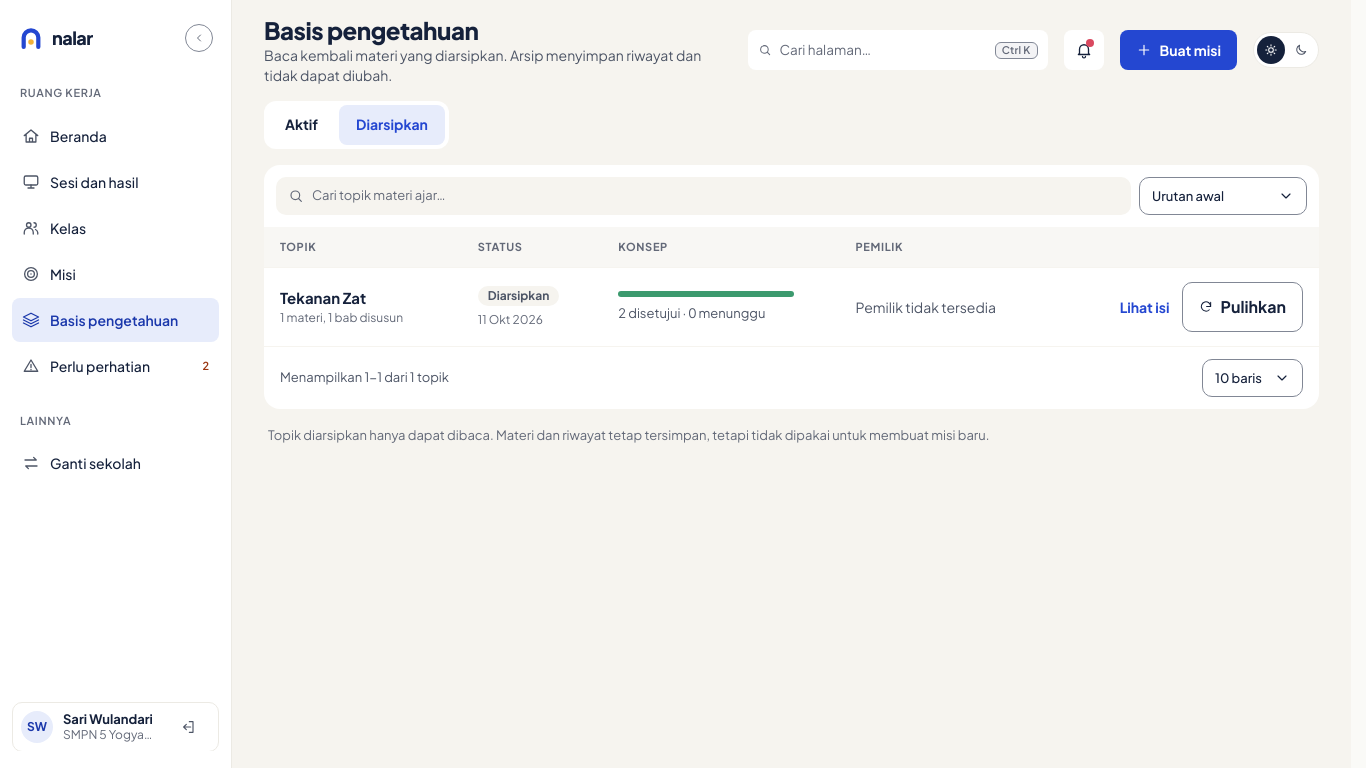
Test: signed-in teacher pages › opens archived topic material read-only even when stale edit capability is returned
Click the link "Tekanan Zat": x=323, y=298 [280, 288, 366, 308]
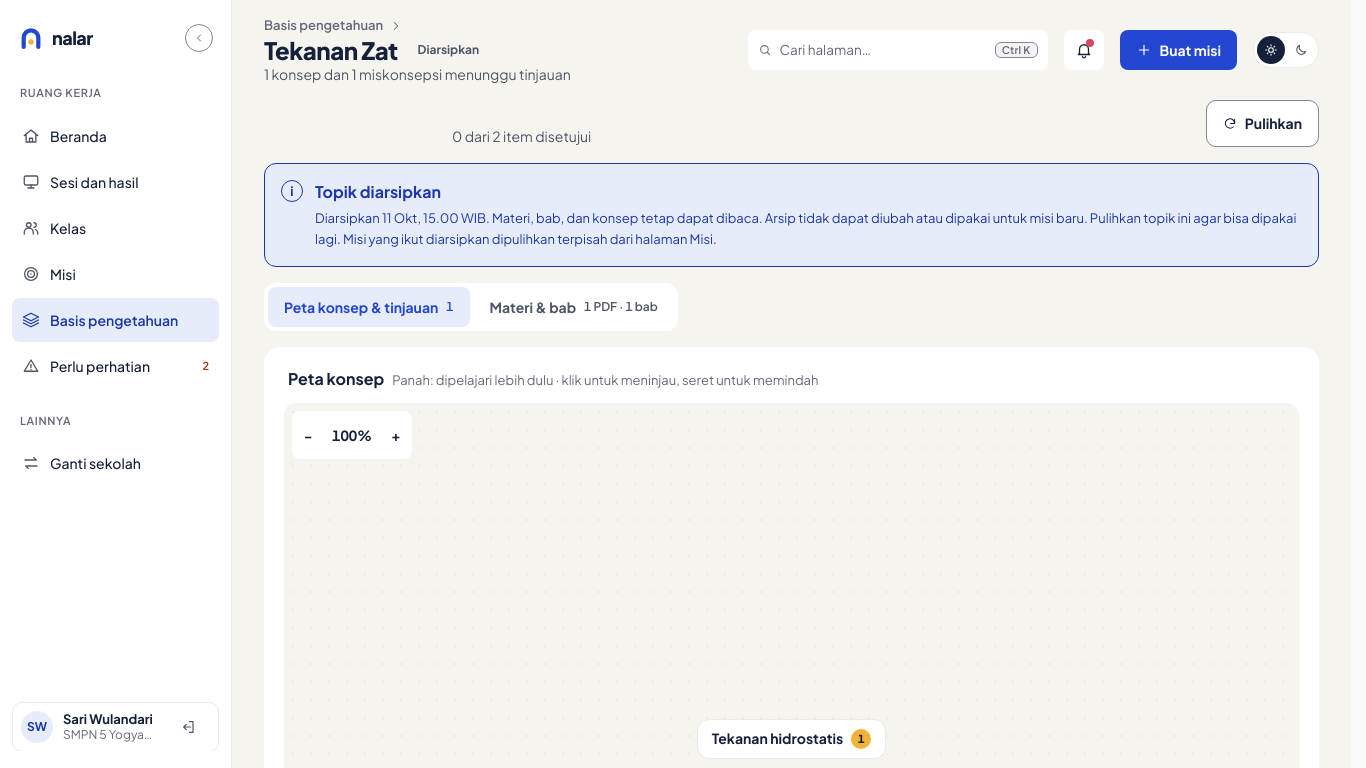
Expected: the text "Topik diarsipkan" is shown, [315, 181, 441, 202]
Click the tab "Materi & bab 1 PDF · 1 bab": x=574, y=307 [474, 287, 674, 327]
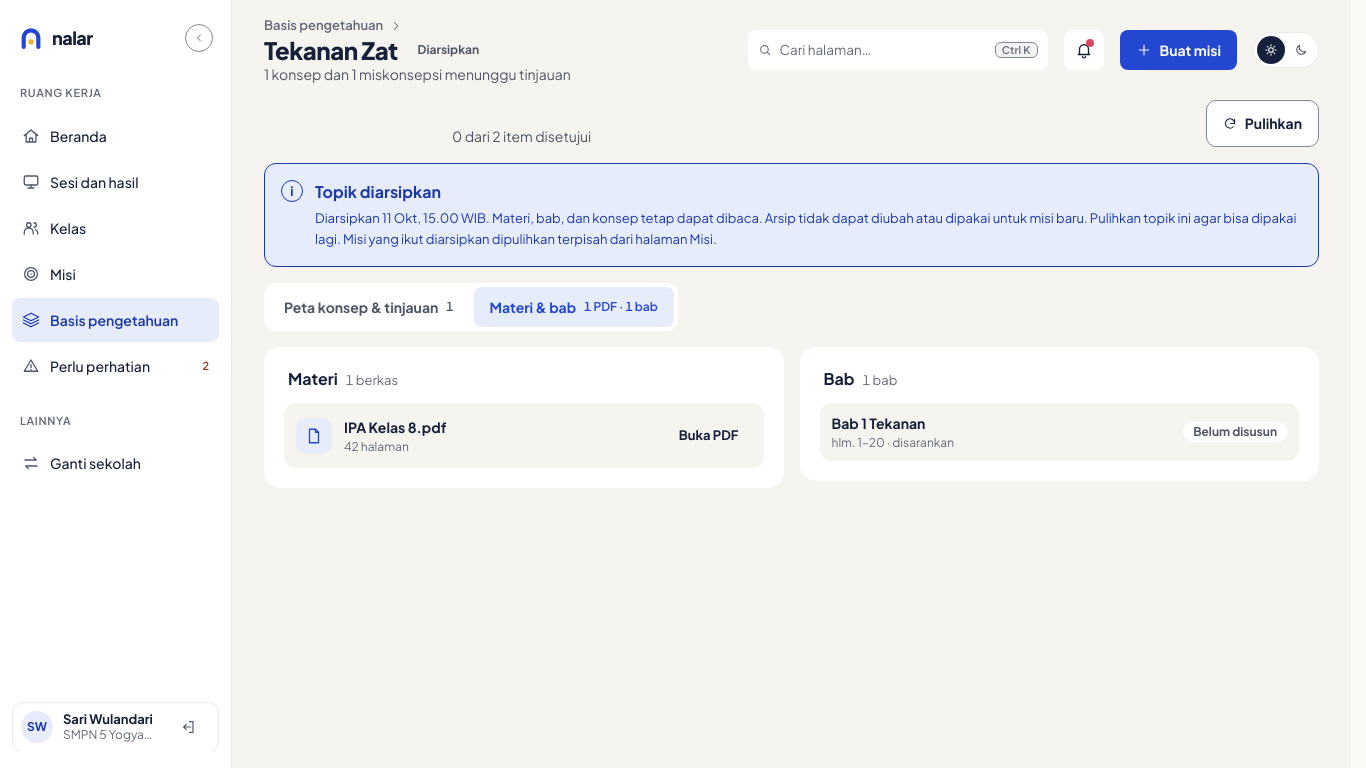
Result: the button with aria-label "Buka PDF IPA Kelas 8.pdf" is shown at [666, 413, 752, 458]
